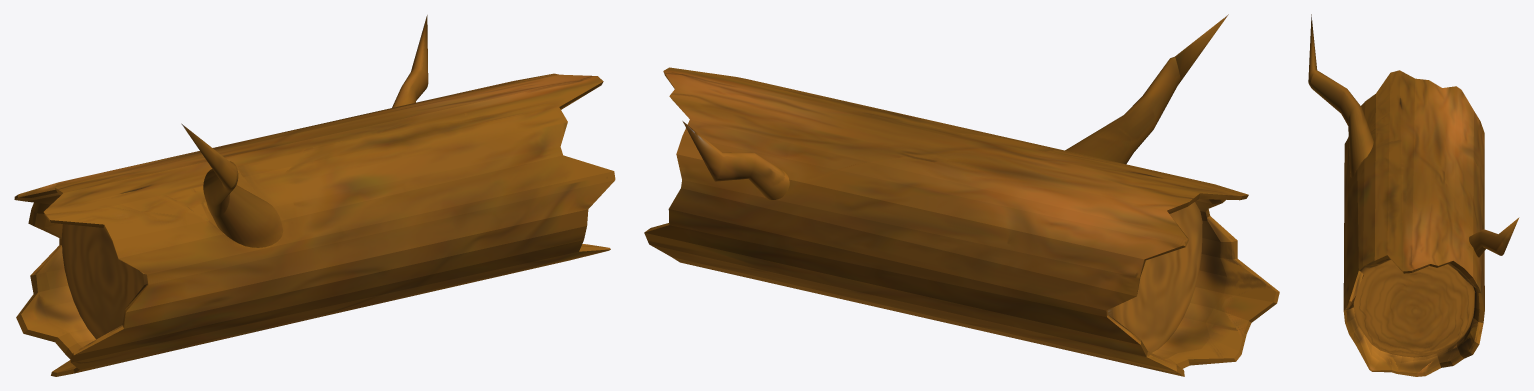
File: log 1.fbx
3 views of the same model, side by side, from view 1: azimuth 30°, elevation 25°; view 2: azimuth 150°, elevation 25°; view 3: azimuth 270°, elevation 25° (orthographic). The views are drawn at different scales.
Visible parts, largest first — view 1: Cylinder; view 2: Cylinder; view 3: Cylinder.
Boxes of the visible parts, box(x1,y1,x2,y2) form: Cylinder: box(14, 15, 615, 376); Cylinder: box(644, 14, 1279, 376); Cylinder: box(1308, 14, 1519, 376).
Size of the model in its own units: 10469 by 5176 by 4757.
